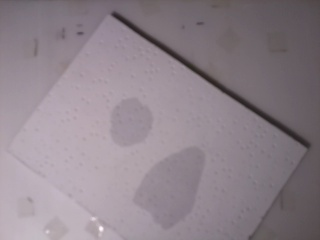Water_detected: (150, 153, 197, 214), (107, 99, 145, 138)
